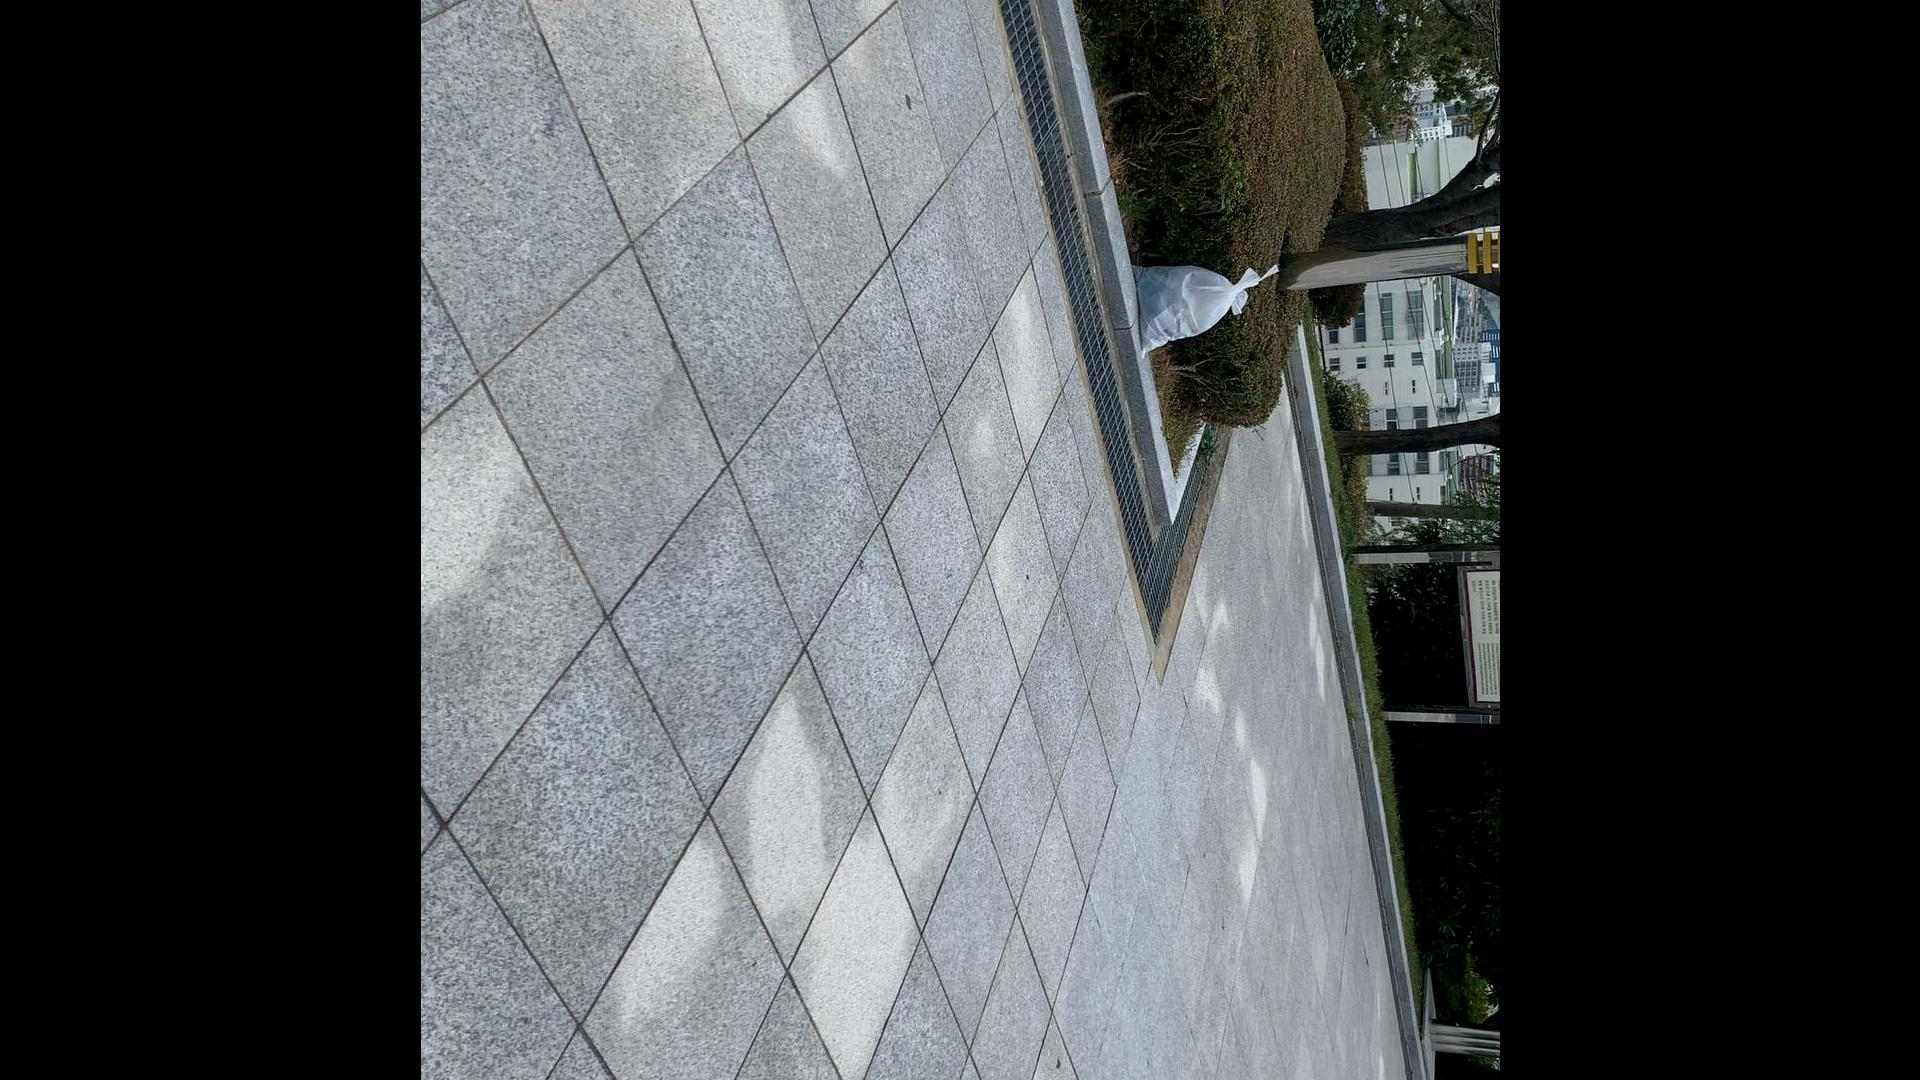white_bag: (1125, 247, 1278, 361)
